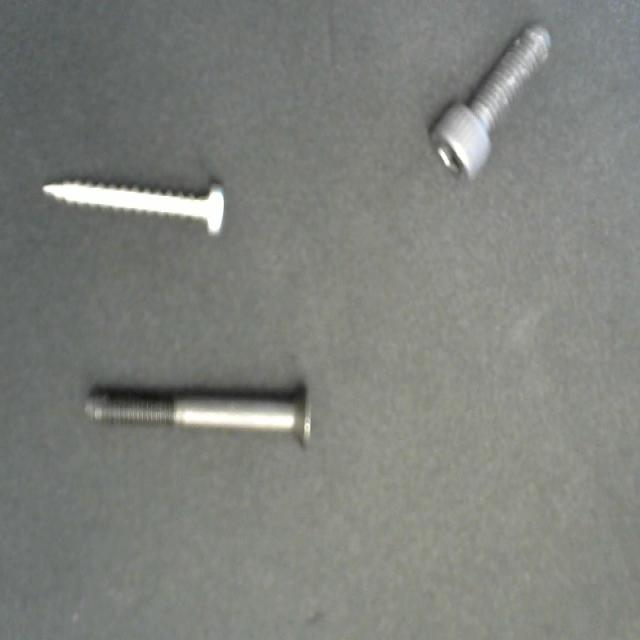FlatHeadSocketScrew: (83, 355, 321, 484)
SheetMetalScrew: (38, 158, 239, 249)
SocketHeadCapScrew: (425, 18, 552, 195)
